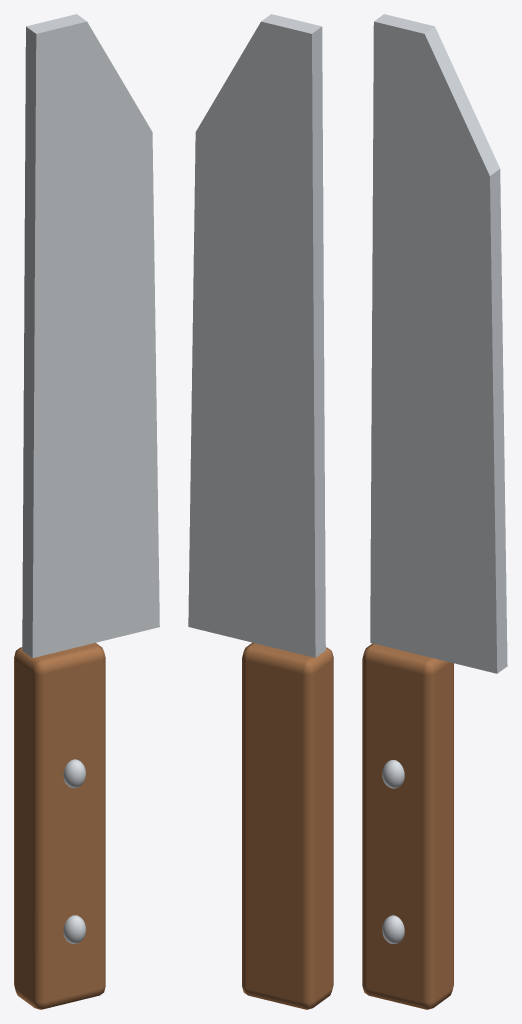
File: wp-couteau-de-chef.glb
The picture shows the model from 3 angles, left to right: view 1: azimuth 30°, elevation 25°; view 2: azimuth 150°, elevation 25°; view 3: azimuth 330°, elevation 25°; orthographic projection.
Visible parts, largest first — view 1: wp-couteau-de-chef; view 2: wp-couteau-de-chef; view 3: wp-couteau-de-chef.
Part boxes in pixels (x1,y1,x2,y2): wp-couteau-de-chef: (14,14,159,1009); wp-couteau-de-chef: (188,14,333,1009); wp-couteau-de-chef: (362,14,507,1009).
Bounding box in the file's own units: 0.045 × 0.32 × 0.02.
